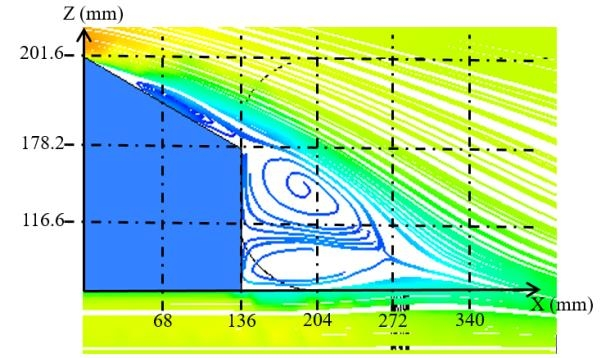vortox: (244, 140, 384, 241)
